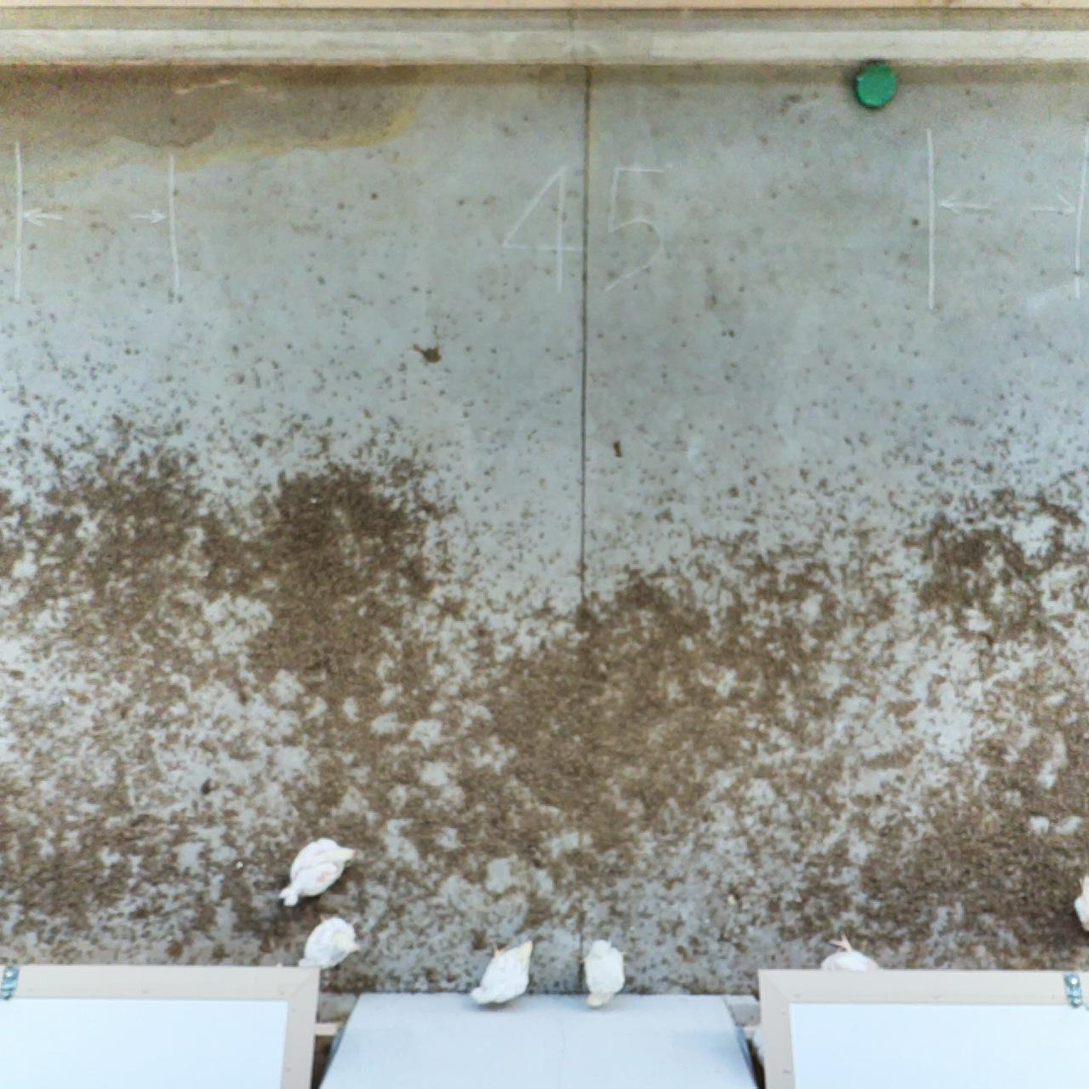chicken: (276, 834, 361, 912), (466, 936, 537, 1007), (292, 908, 363, 974), (576, 934, 632, 1009), (816, 933, 886, 972), (1069, 867, 1089, 938)
